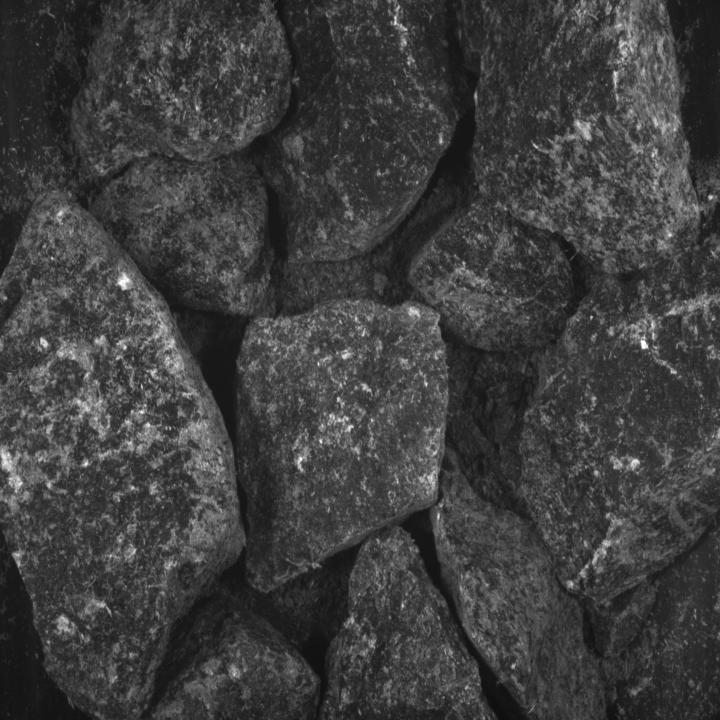stone: (0, 181, 244, 717), (522, 231, 720, 597), (453, 0, 698, 263), (231, 297, 445, 597), (263, 0, 473, 263), (428, 419, 605, 720), (68, 0, 292, 180), (322, 527, 497, 718), (88, 155, 278, 316), (410, 192, 573, 356), (151, 594, 323, 720)
